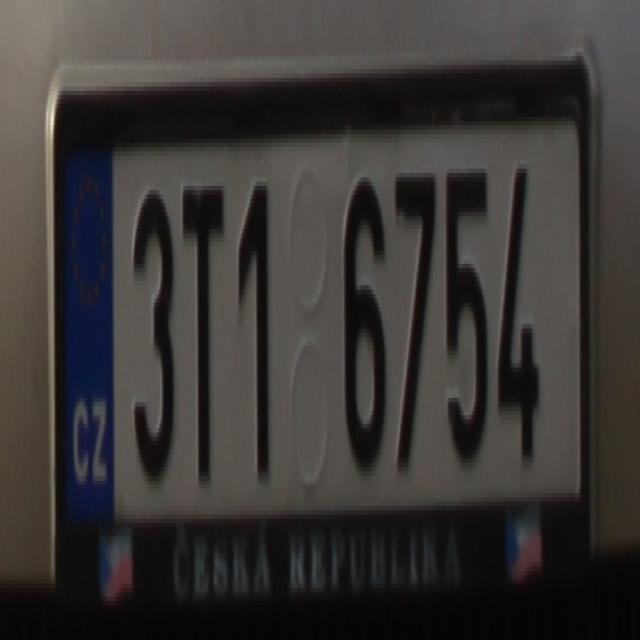1: (238, 168, 270, 488)
3: (128, 182, 178, 480)
4: (497, 152, 542, 472)
5: (444, 165, 494, 472)
6: (341, 168, 388, 454)
7: (393, 165, 439, 484)
T: (180, 182, 228, 488)
